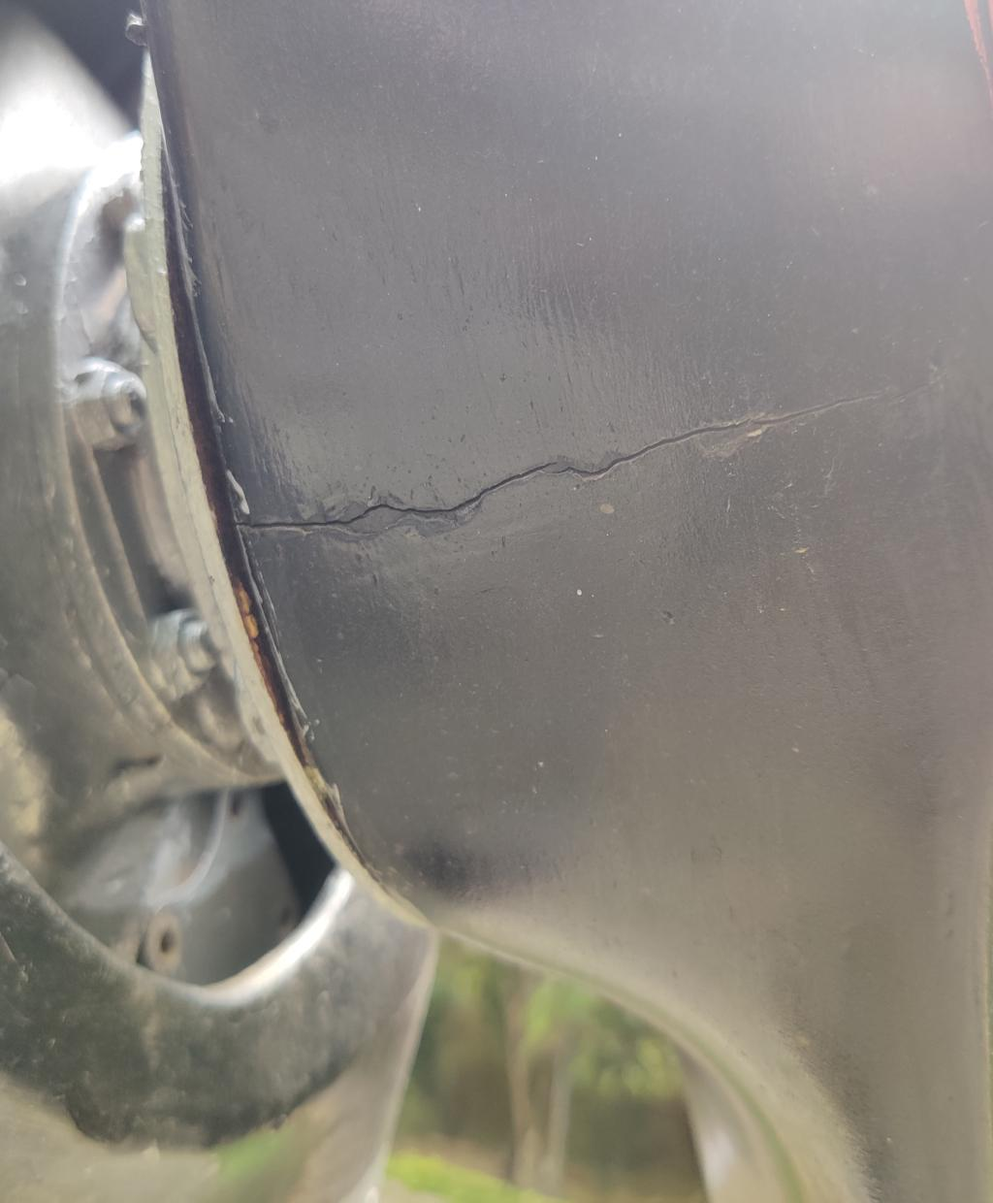crack: (192, 329, 910, 677)
